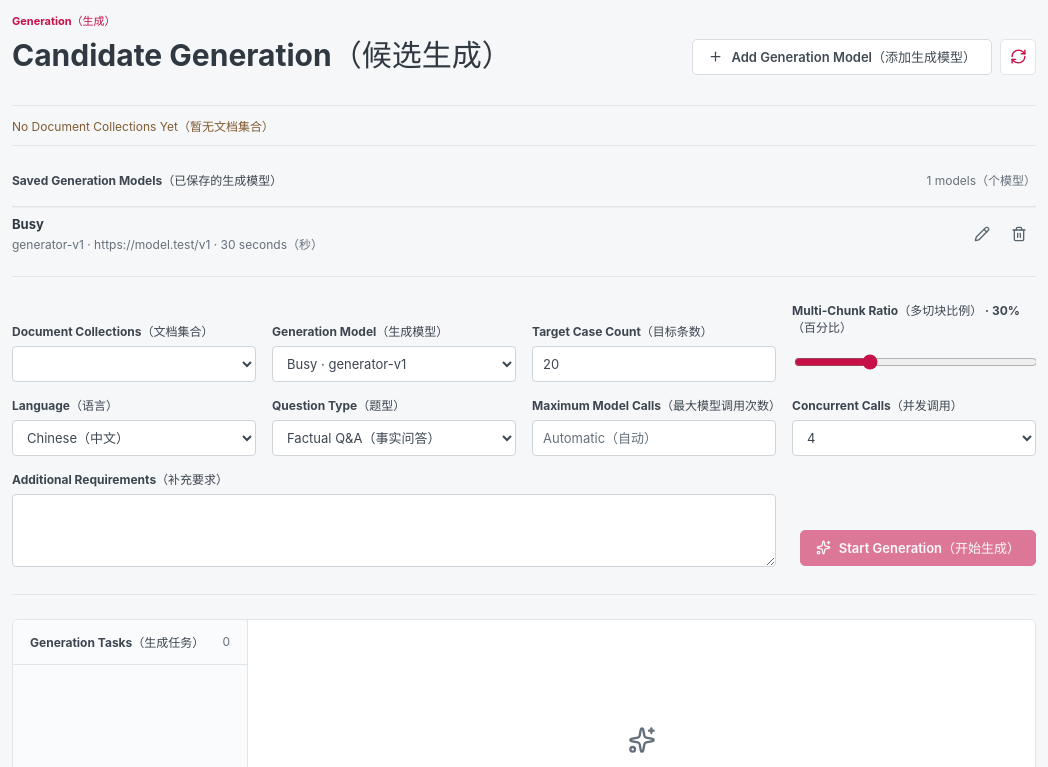
Scenario: keeps an in-use model when deletion is rejected
Click the button named "Delete Model（删除模型）: Busy".
click(1019, 234)  # box [1002,216,1036,250]
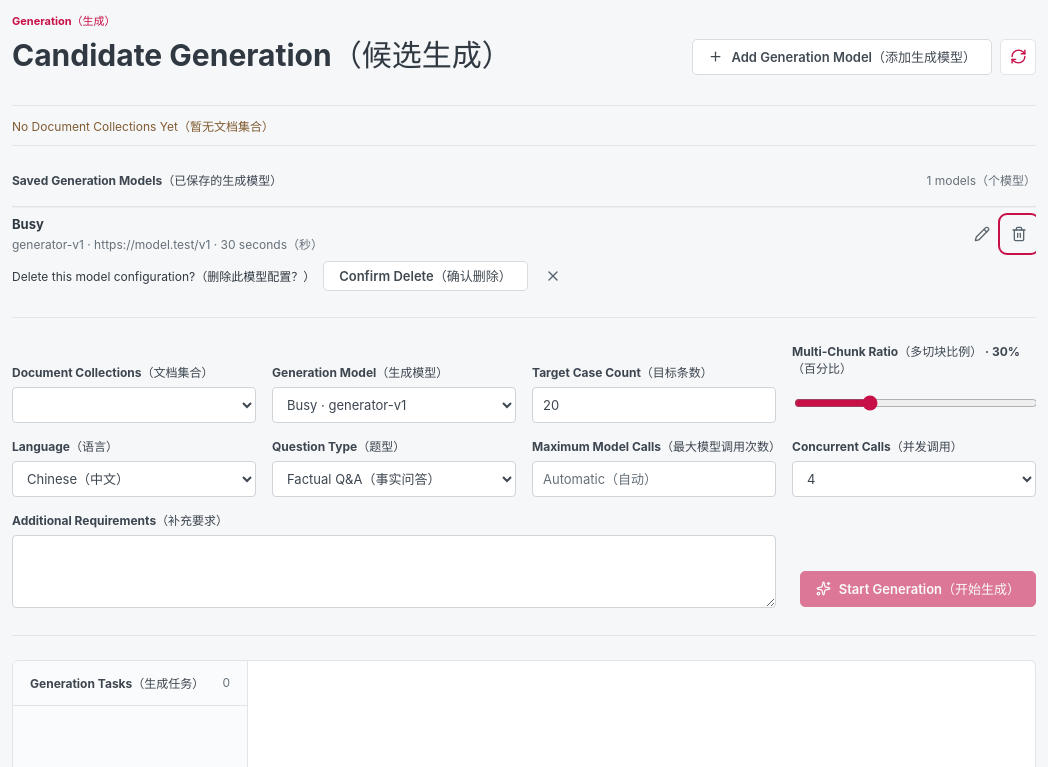
Click the button "Confirm Delete（确认删除）".
click(426, 276)  # box [323,260,528,290]
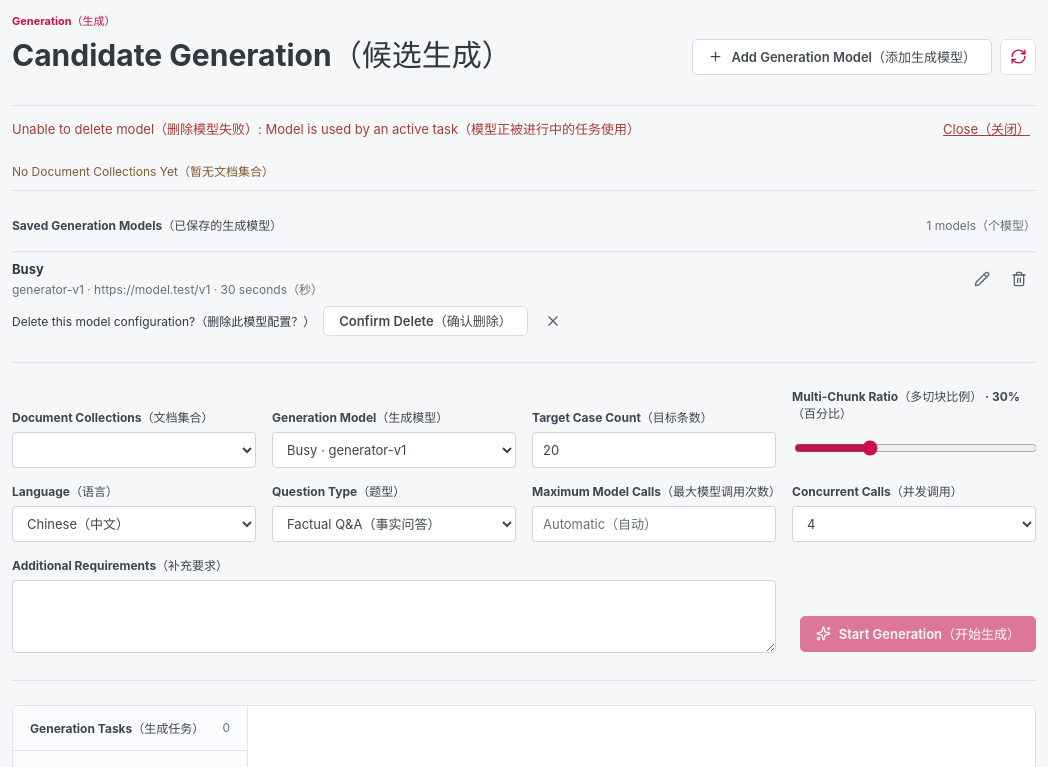
Expected: the button named "Delete Model（删除模型）: Busy" is shown, [1002,262,1036,296]
Result: the 1st message shows "模型正被进行中的任务使用" at [12,120,640,136]
